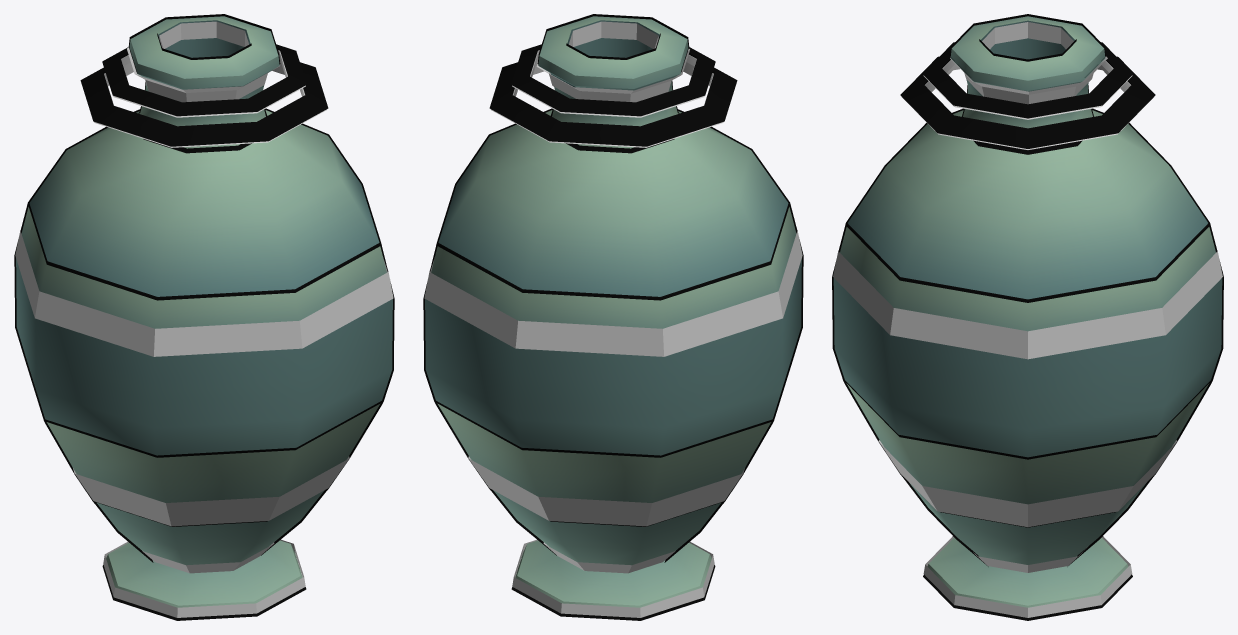
Rendered from Rooms_Paradise_Vase_Small_Art.fbx.
The picture shows the model from 3 angles, left to right: view 1: azimuth 30°, elevation 25°; view 2: azimuth 150°, elevation 25°; view 3: azimuth 270°, elevation 25°; orthographic projection.
Parts seen in each view (by area): view 1: Rooms_Paradise_Vase_Small_Art, Rooms_Paradise_Vase_Small_Shadows, Rooms_Paradise_Vase_Small_Outline_Art; view 2: Rooms_Paradise_Vase_Small_Art, Rooms_Paradise_Vase_Small_Shadows, Rooms_Paradise_Vase_Small_Outline_Art; view 3: Rooms_Paradise_Vase_Small_Art, Rooms_Paradise_Vase_Small_Shadows, Rooms_Paradise_Vase_Small_Outline_Art.
Part boxes in pixels (<box>): Rooms_Paradise_Vase_Small_Art: <box>16,16,392,607</box>; Rooms_Paradise_Vase_Small_Shadows: <box>15,21,393,617</box>; Rooms_Paradise_Vase_Small_Outline_Art: <box>14,14,394,620</box>; Rooms_Paradise_Vase_Small_Art: <box>425,16,801,607</box>; Rooms_Paradise_Vase_Small_Shadows: <box>424,21,802,617</box>; Rooms_Paradise_Vase_Small_Outline_Art: <box>423,14,803,620</box>; Rooms_Paradise_Vase_Small_Art: <box>833,16,1222,607</box>; Rooms_Paradise_Vase_Small_Shadows: <box>833,22,1222,617</box>; Rooms_Paradise_Vase_Small_Outline_Art: <box>832,14,1223,620</box>.
Size of the model in its own units: 72.34 by 109 by 72.34.
